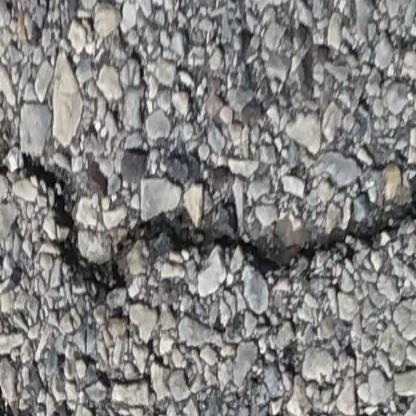Cracks: (0, 146, 416, 305), (0, 357, 46, 416)
